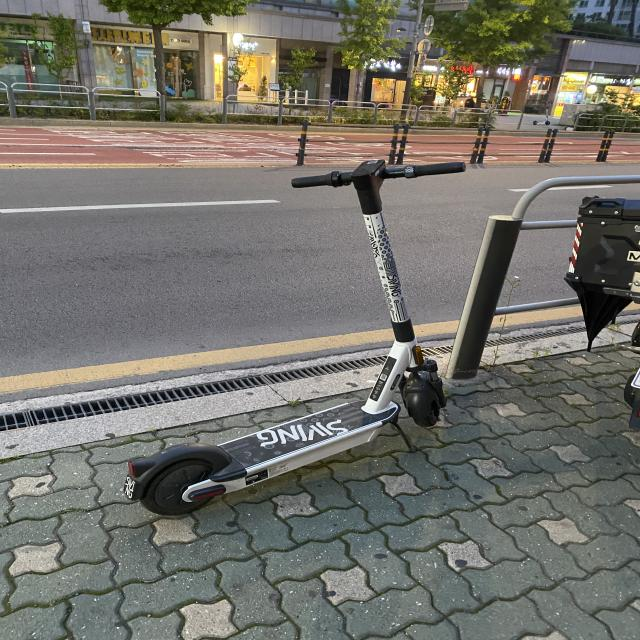curb: (0, 366, 380, 459), (482, 332, 587, 365), (595, 324, 633, 346), (432, 355, 448, 372)
kick-board: (123, 160, 465, 515)
lane: (0, 329, 393, 394), (505, 306, 582, 326), (415, 321, 458, 338)
road: (2, 166, 390, 376), (382, 164, 638, 324), (510, 229, 573, 304)
sidewalk: (0, 346, 638, 640)
verge: (0, 348, 388, 414)
